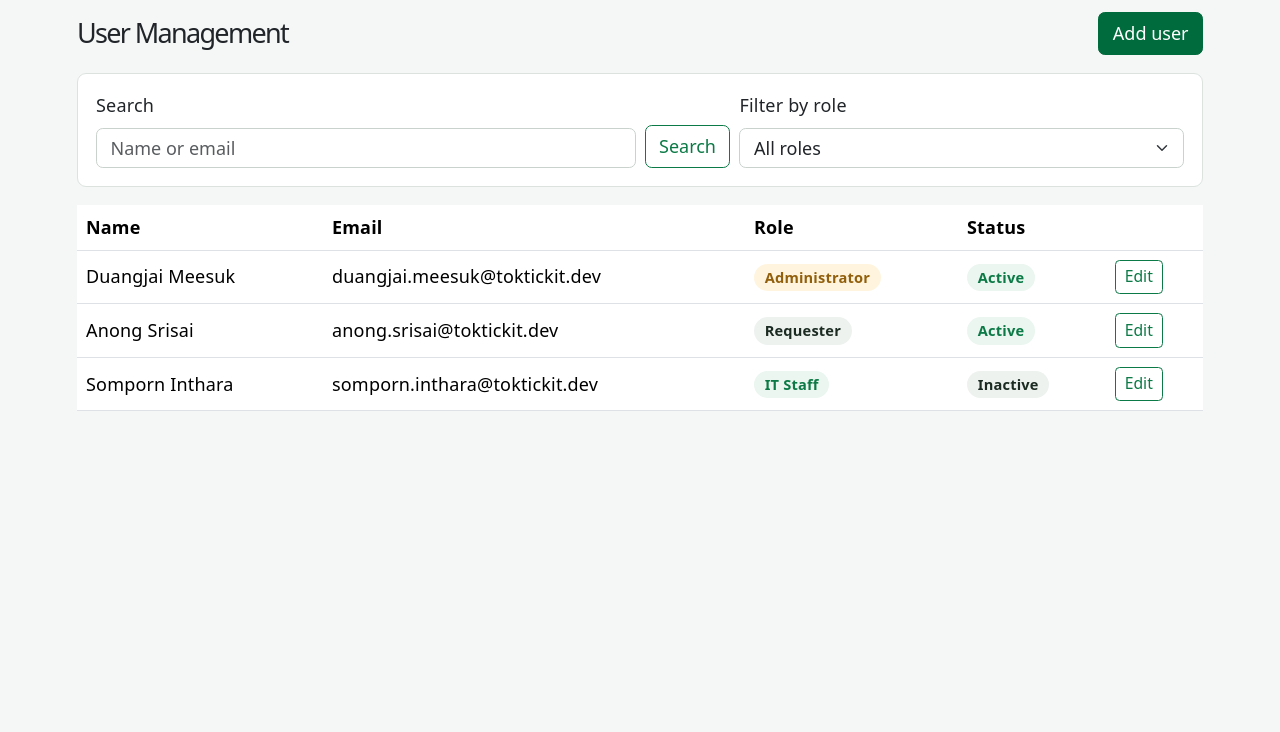
Test: UserManagement › deactivates another user and confirms it
Click the button with aria-label "Edit Anong Srisai" at (1139, 330), box top-left (1115, 313), bottom-right (1163, 348)
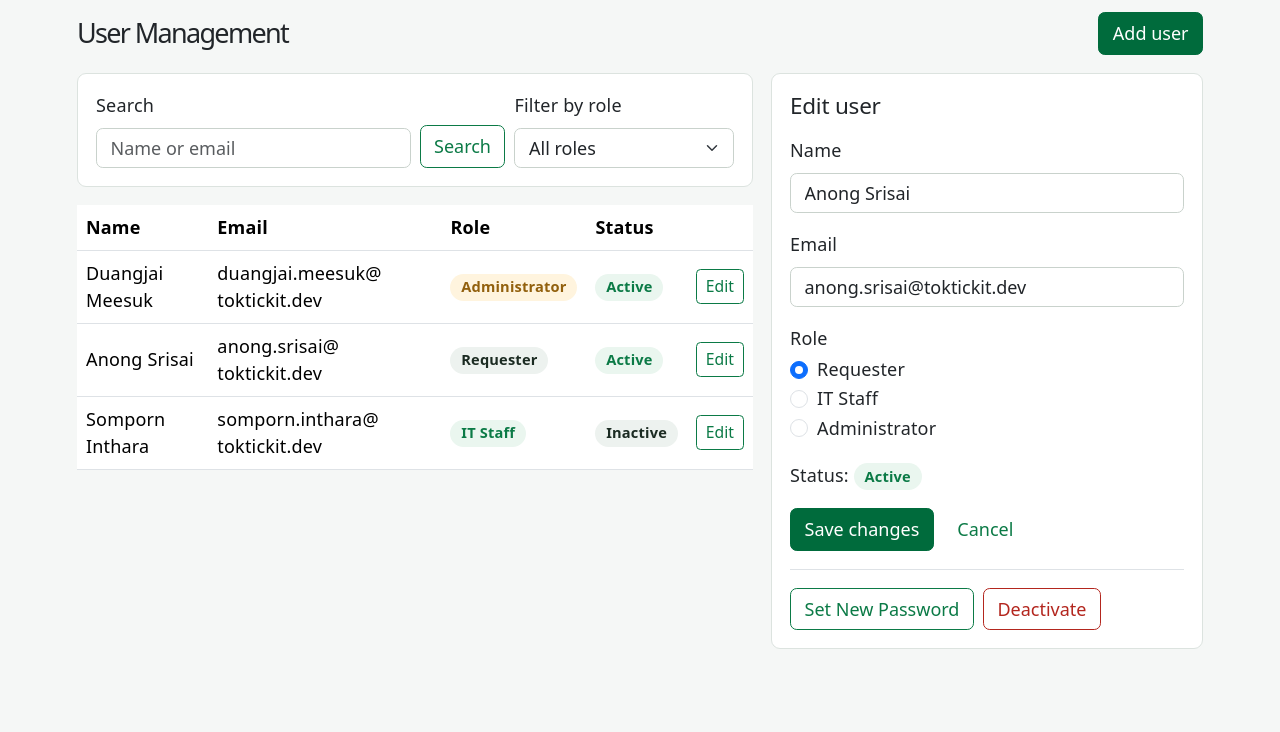
Click the button "Deactivate" at (1042, 609), box top-left (983, 588), bottom-right (1101, 630)
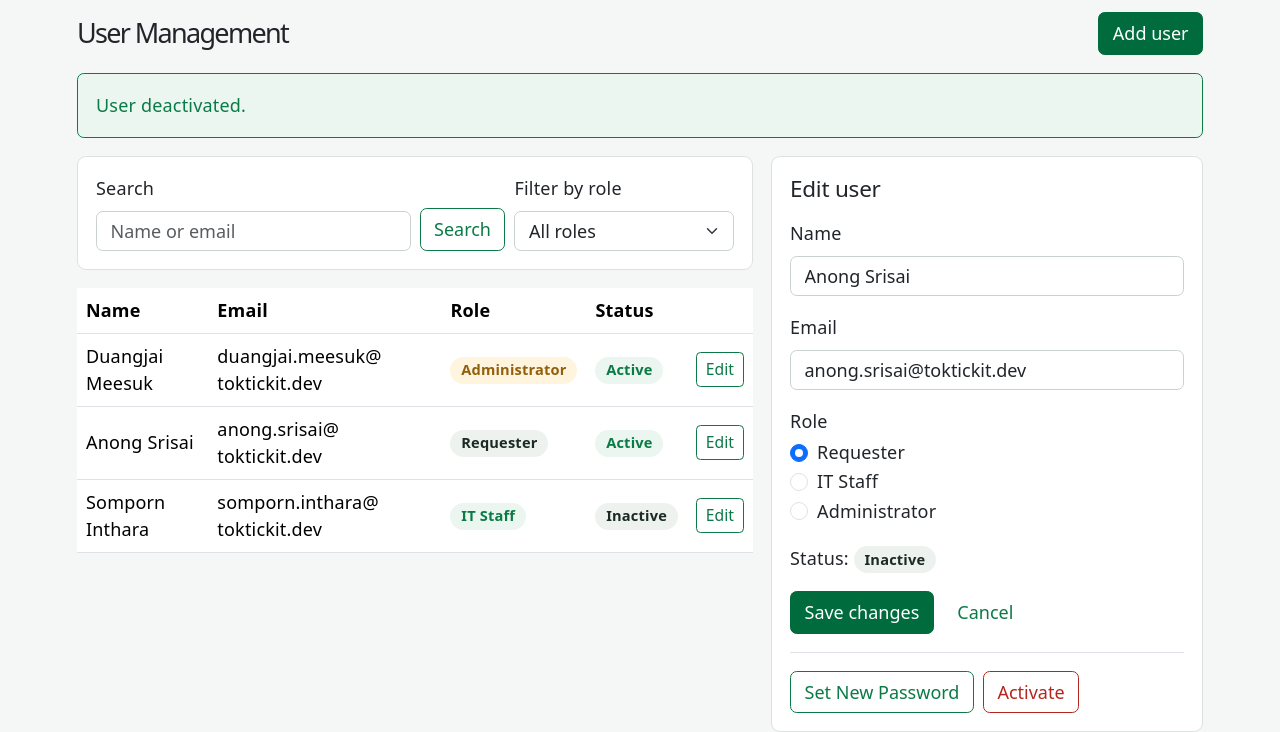
Now the message reads "User deactivated.", box top-left (96, 92), bottom-right (246, 116)
